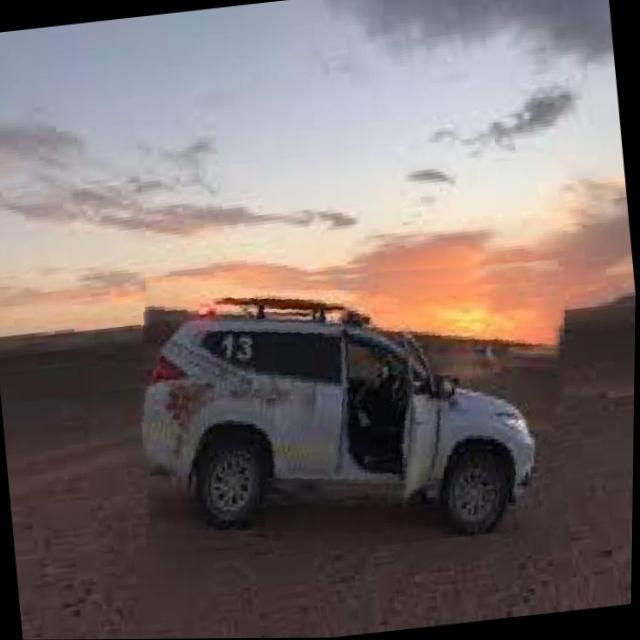ambulance: (126, 241, 586, 571)
